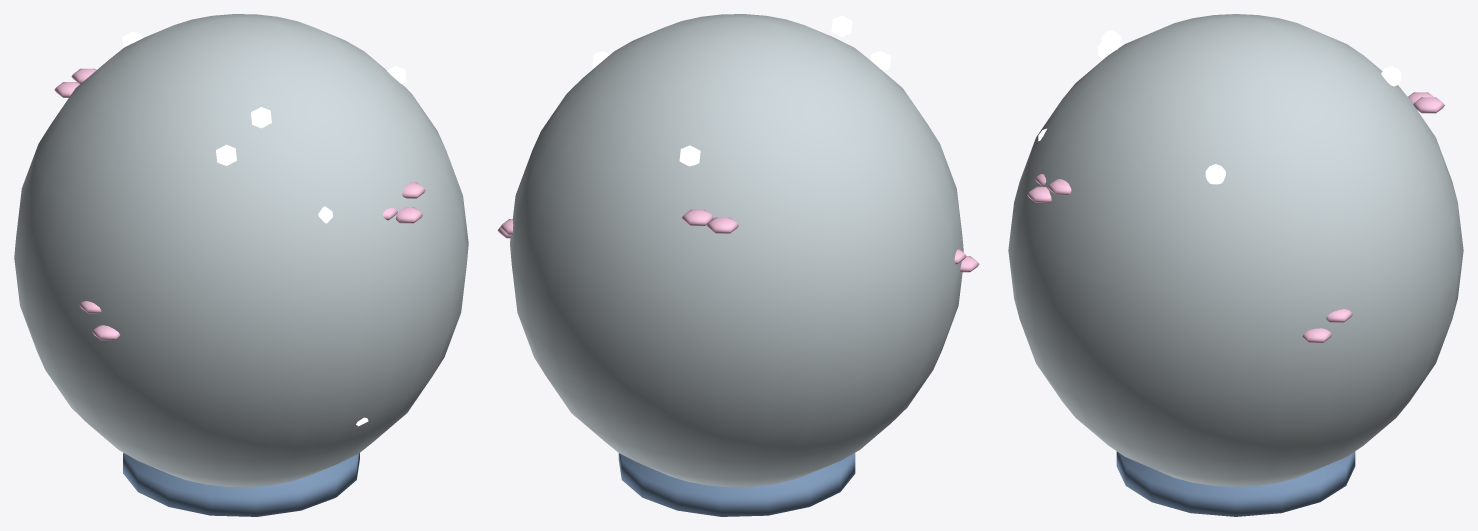
The model's file is egg_snow_09.glb.
3 views of the same model, side by side, from view 1: azimuth 30°, elevation 25°; view 2: azimuth 150°, elevation 25°; view 3: azimuth 270°, elevation 25° (orthographic).
Visible parts, largest first — view 1: ball; view 2: ball; view 3: ball.
Part boxes in pixels (<box>): ball: <box>14,14,468,516</box>; ball: <box>497,14,979,516</box>; ball: <box>1008,14,1463,516</box>.
Size of the model in its own units: 0.84 by 0.88 by 0.84.
